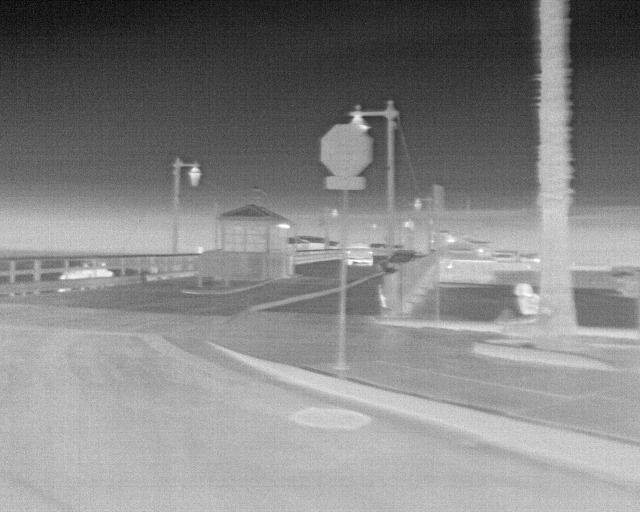car: (344, 241, 375, 271)
